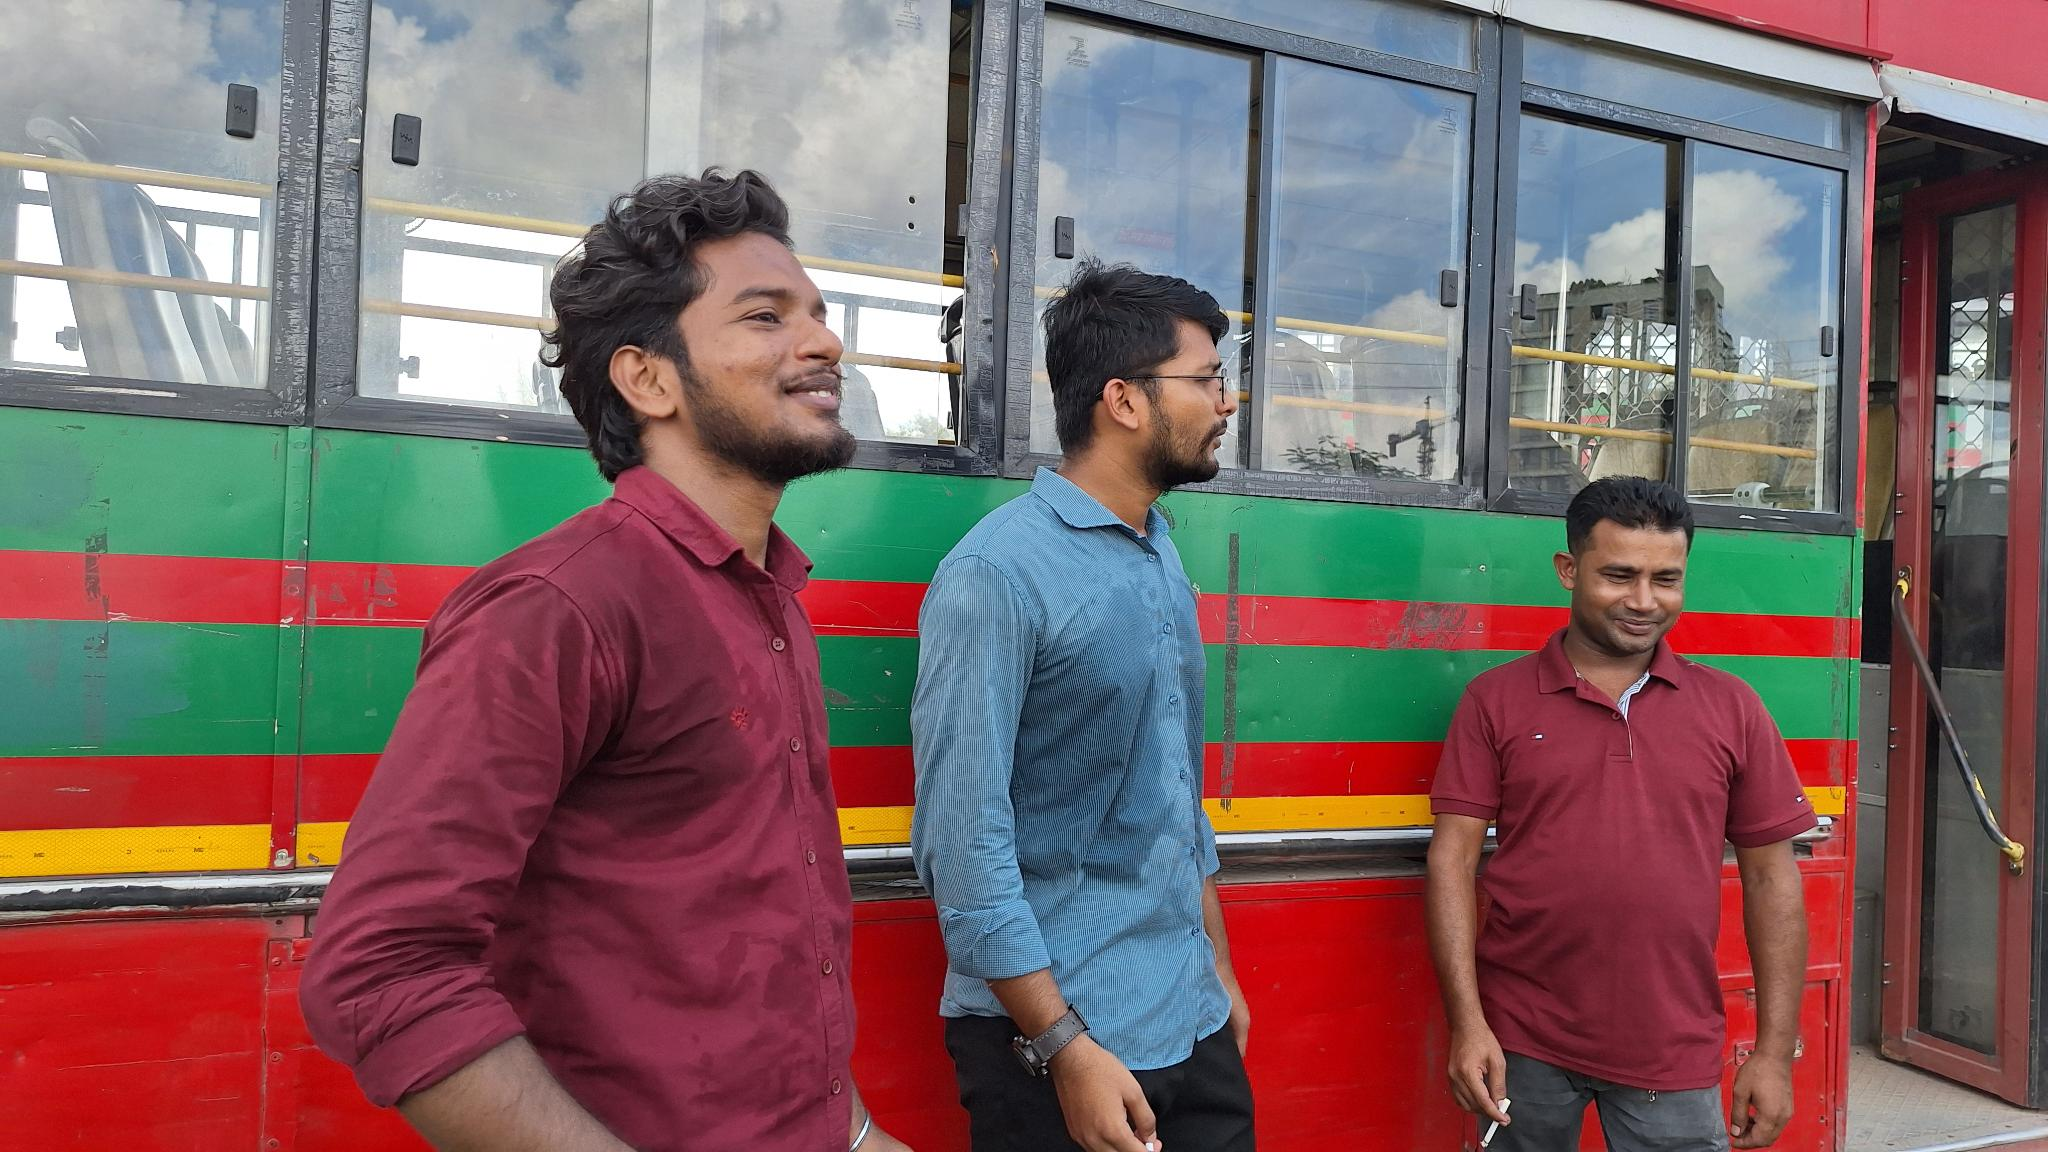cigarette: (1478, 1096, 1513, 1151)
nonSmoker: (302, 169, 914, 1152), (910, 269, 1257, 1144)
smoker: (1426, 477, 1823, 1152)
